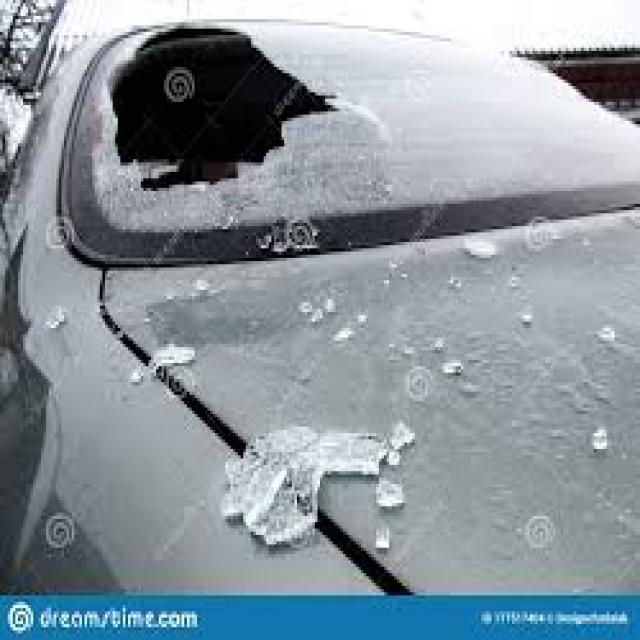damaged-rear-window: (72, 27, 640, 239)
